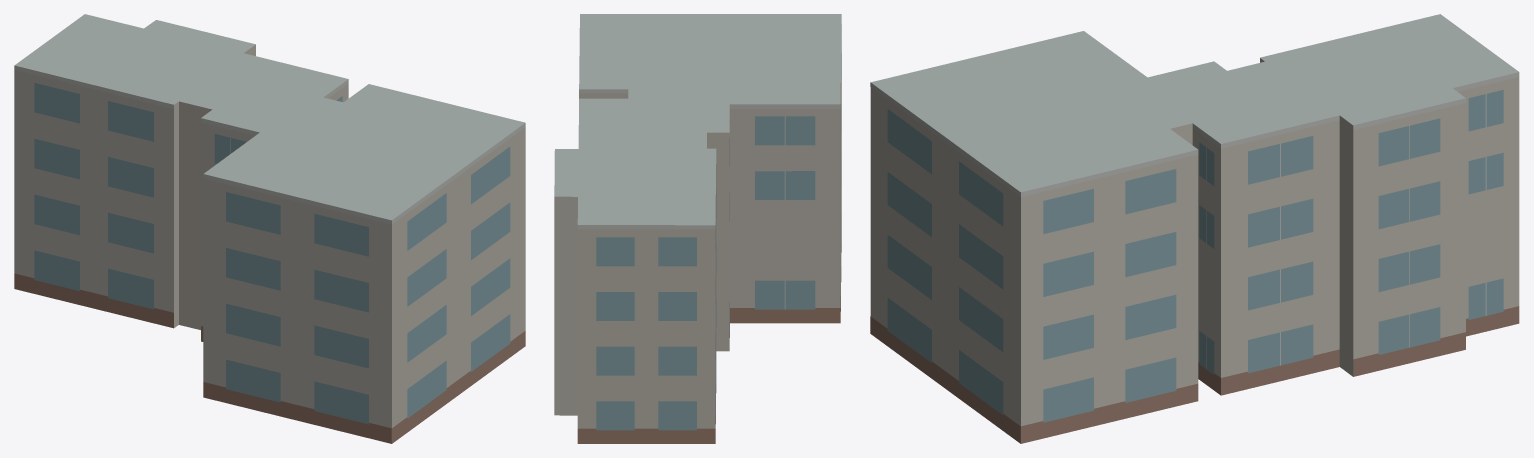
Rendered from survey-upis-32620448.glb.
3 renders of one model, left to right at view 1: azimuth 30°, elevation 25°; view 2: azimuth 150°, elevation 25°; view 3: azimuth 270°, elevation 25°, orthographic. The views are drawn at different scales.
Visible parts, largest first — view 1: survey-upis-32620448.tmp; view 2: survey-upis-32620448.tmp; view 3: survey-upis-32620448.tmp.
Boxes of the visible parts, bbox=[...] form: survey-upis-32620448.tmp: bbox=[14, 14, 525, 443]; survey-upis-32620448.tmp: bbox=[554, 14, 841, 443]; survey-upis-32620448.tmp: bbox=[870, 14, 1519, 443].
Size of the model in its own units: 19.37 by 12.73 by 29.77.
